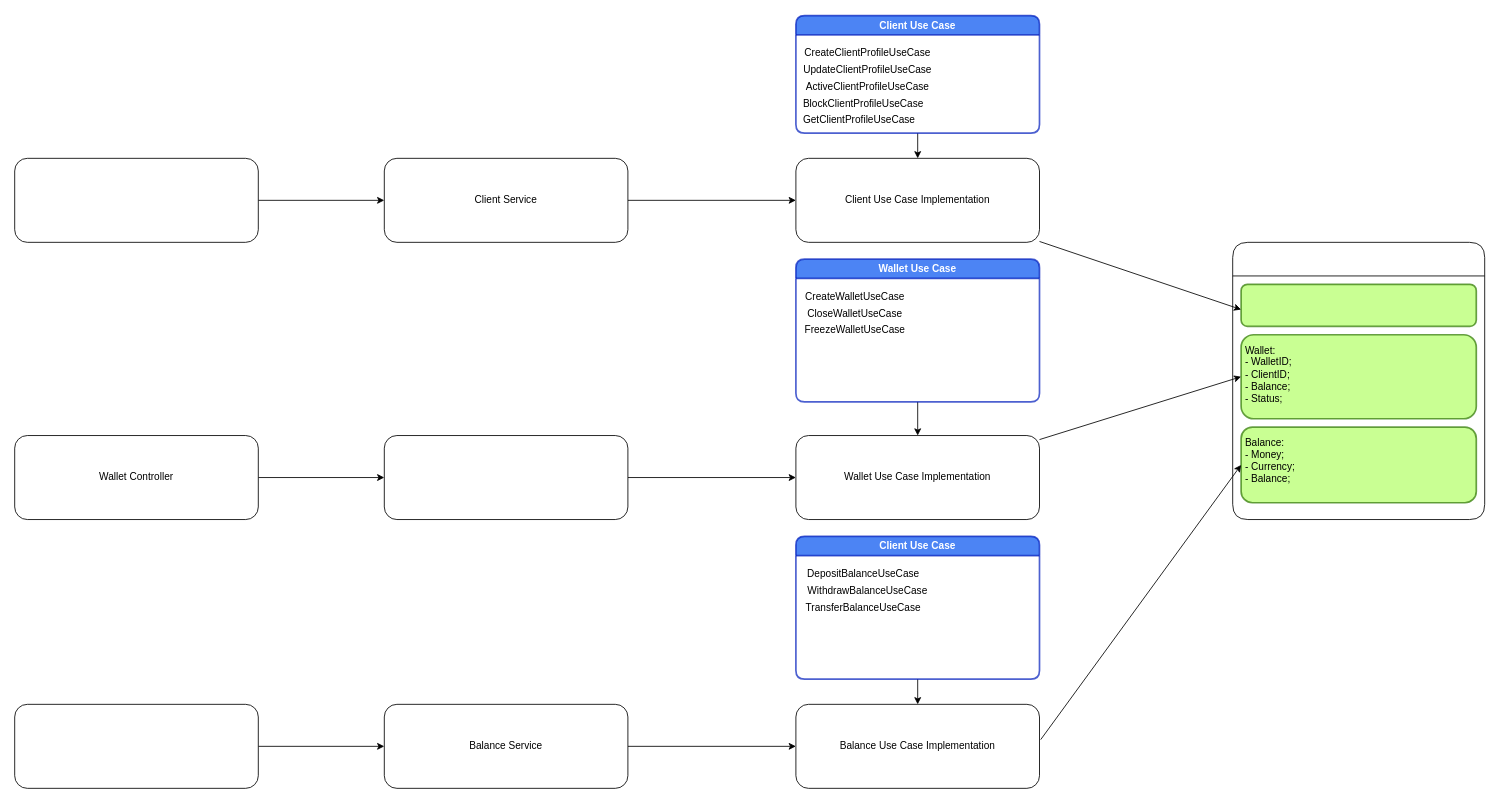
The diagram is 1499 pixels wide and 803 high, and some of its shapes have lost their labels. Here are the shapes that lost their labels. From the top down, the box of each, then its label:
(14, 158, 258, 242): Client Controller
(1240, 283, 1477, 327): Client: - Client ID;
(1232, 242, 1485, 520): Entities
(383, 435, 628, 520): Wallet Service
(14, 704, 258, 788): Balance Controller
